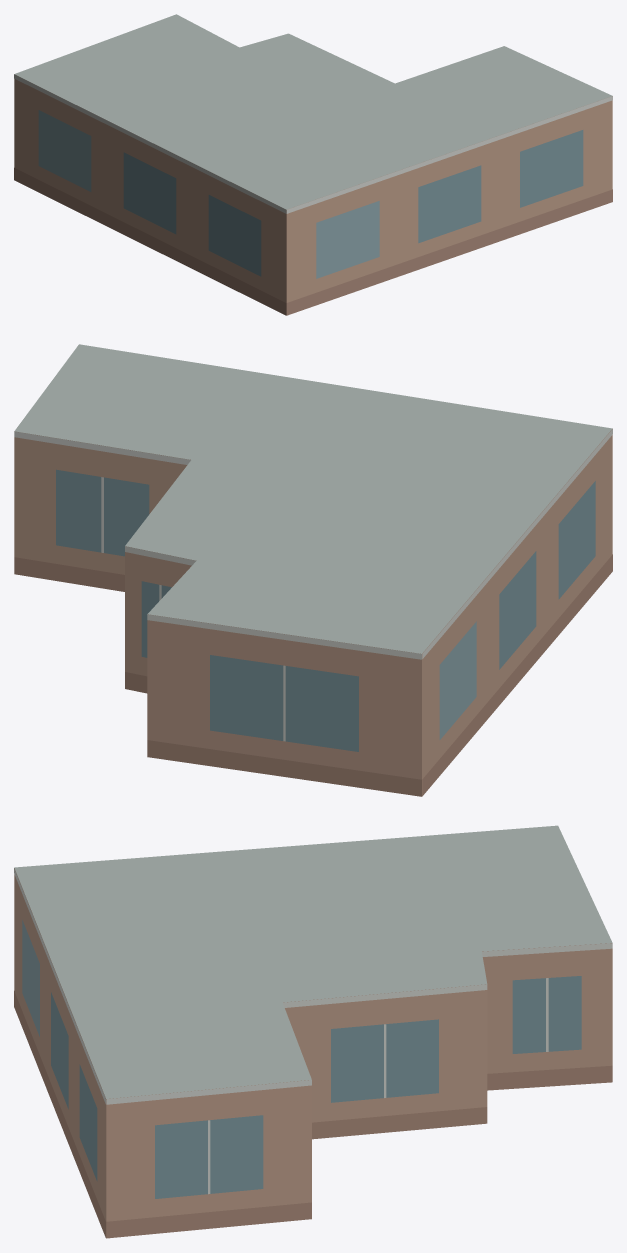
The model's file is survey-upis-32606822.glb.
3 renders of one model, top to bottom at view 1: azimuth 30°, elevation 25°; view 2: azimuth 150°, elevation 25°; view 3: azimuth 270°, elevation 25°, orthographic. The views are drawn at different scales.
Visible parts, largest first — view 1: survey-upis-32606822.tmp; view 2: survey-upis-32606822.tmp; view 3: survey-upis-32606822.tmp.
Boxes of the visible parts, bbox=[...] form: survey-upis-32606822.tmp: bbox=[14, 14, 612, 315]; survey-upis-32606822.tmp: bbox=[14, 344, 612, 796]; survey-upis-32606822.tmp: bbox=[14, 825, 612, 1238].
Size of the model in its own units: 12.85 by 3.05 by 11.89.
